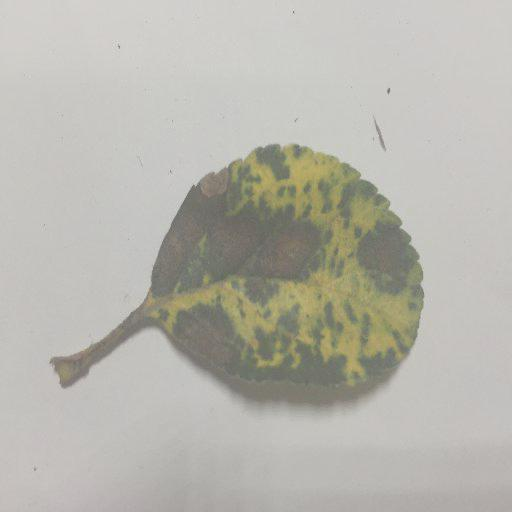Brown_Spot: (155, 196, 209, 295), (205, 218, 256, 277), (174, 315, 234, 364), (254, 233, 316, 275), (354, 241, 416, 275)
